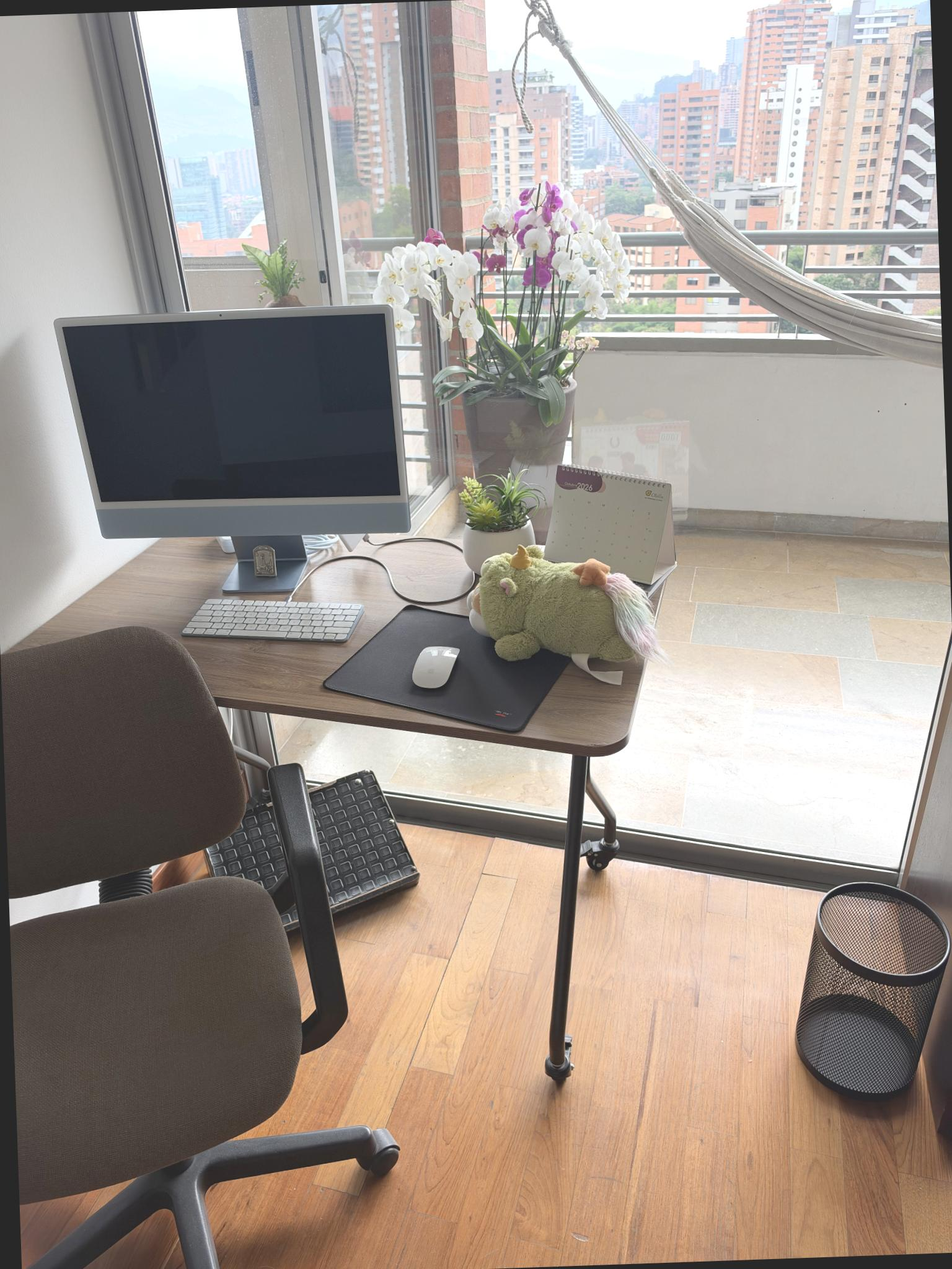peluche_martin: (466, 538, 669, 672)
